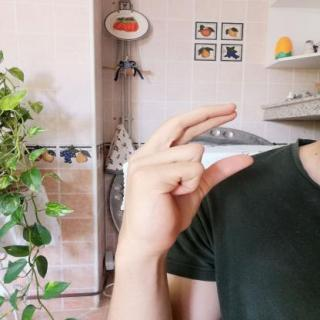DHELL: (106, 100, 260, 258)
